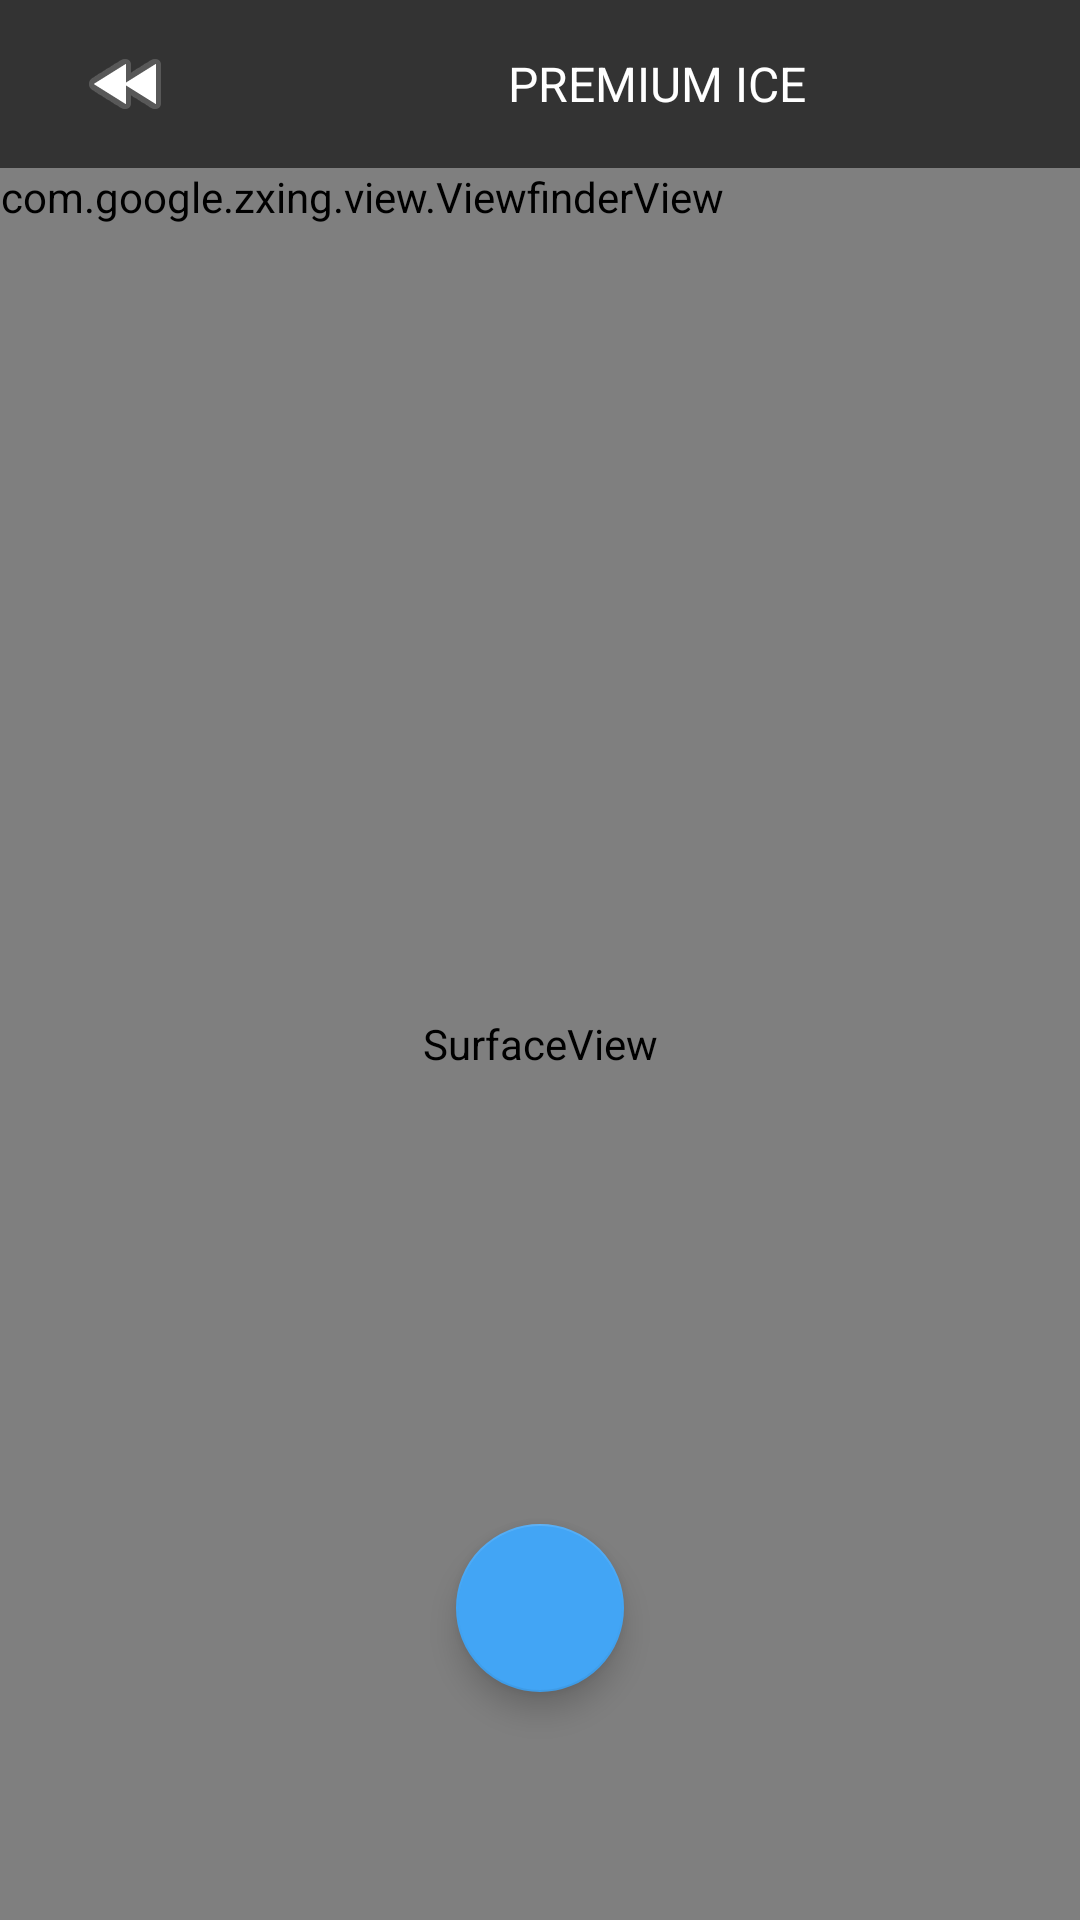

Icons on this 1080w x 1920h Android screen, each with the point to tap as point (x, y):
Volver Atras: point (125, 84)
